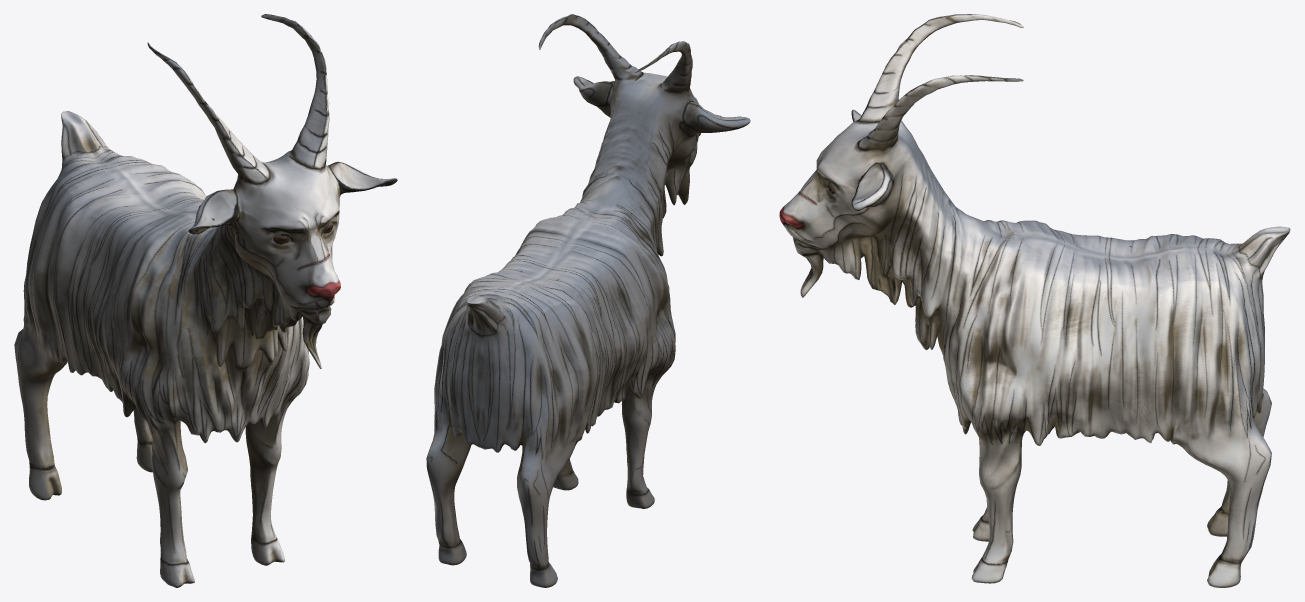
File: goat.glb
The picture shows the model from 3 angles, left to right: view 1: azimuth 30°, elevation 25°; view 2: azimuth 150°, elevation 25°; view 3: azimuth 270°, elevation 25°; orthographic projection. The views are drawn at different scales.
Parts seen in each view (by area): view 1: grumpyGoat11; view 2: grumpyGoat11; view 3: grumpyGoat11.
Part boxes in pixels (x1,y1,x2,y2): grumpyGoat11: (14,14,397,587); grumpyGoat11: (426,14,750,587); grumpyGoat11: (779,14,1290,587).
Bounding box in the file's own units: 0.5818 × 1.43 × 1.29.
Materials: 1 (1 with a texture image).
